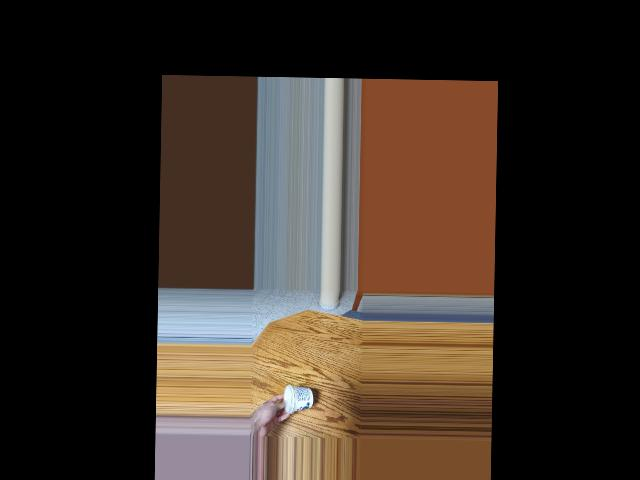cotage: (281, 385, 312, 416)
